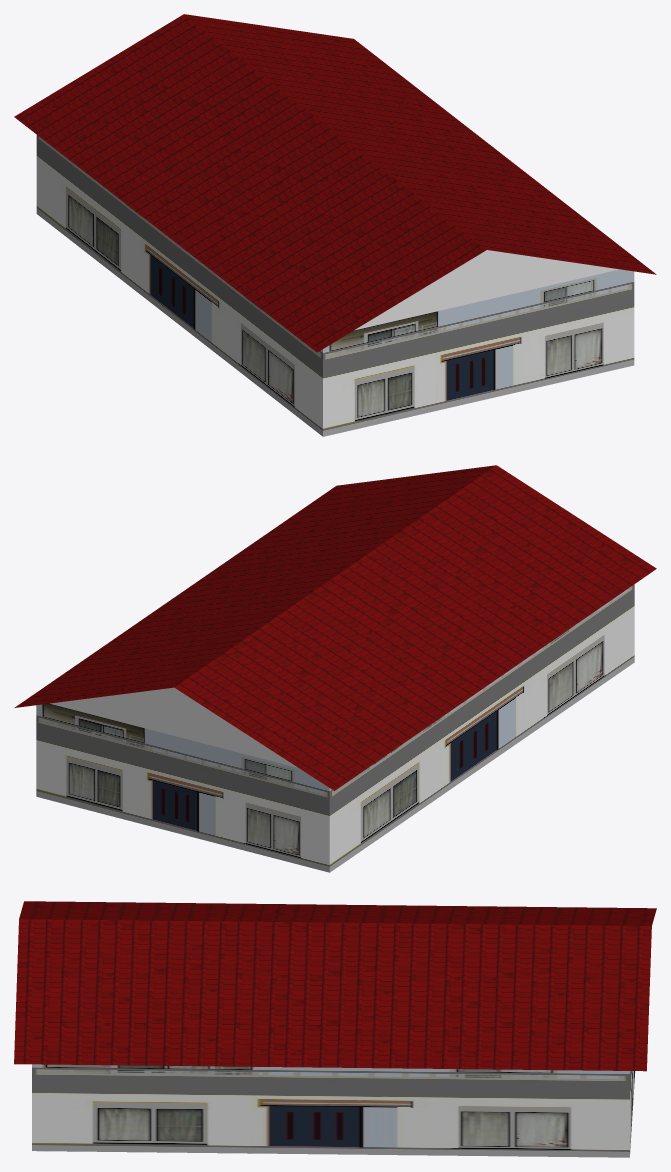
The picture shows the model from 3 angles, top to bottom: view 1: azimuth 30°, elevation 25°; view 2: azimuth 150°, elevation 25°; view 3: azimuth 270°, elevation 25°; orthographic projection. The views are drawn at different scales.
Visible parts, largest first — view 1: CityEngineMaterial_17_m, CityEngineMaterial_7_m, CityEngineMaterial_3_m; view 2: CityEngineMaterial_17_m, CityEngineMaterial_7_m, CityEngineMaterial_3_m; view 3: CityEngineMaterial_17_m, CityEngineMaterial_7_m.
Part boxes in pixels (bbox=[...]): CityEngineMaterial_17_m: bbox=[14, 14, 656, 352]; CityEngineMaterial_7_m: bbox=[36, 135, 634, 436]; CityEngineMaterial_3_m: bbox=[354, 250, 619, 330]; CityEngineMaterial_17_m: bbox=[14, 465, 656, 790]; CityEngineMaterial_7_m: bbox=[36, 584, 634, 872]; CityEngineMaterial_3_m: bbox=[50, 687, 297, 767]; CityEngineMaterial_17_m: bbox=[14, 901, 656, 1071]; CityEngineMaterial_7_m: bbox=[32, 1064, 635, 1157].
Bounding box in the file's own units: 23.09 × 9.96 × 36.92.
